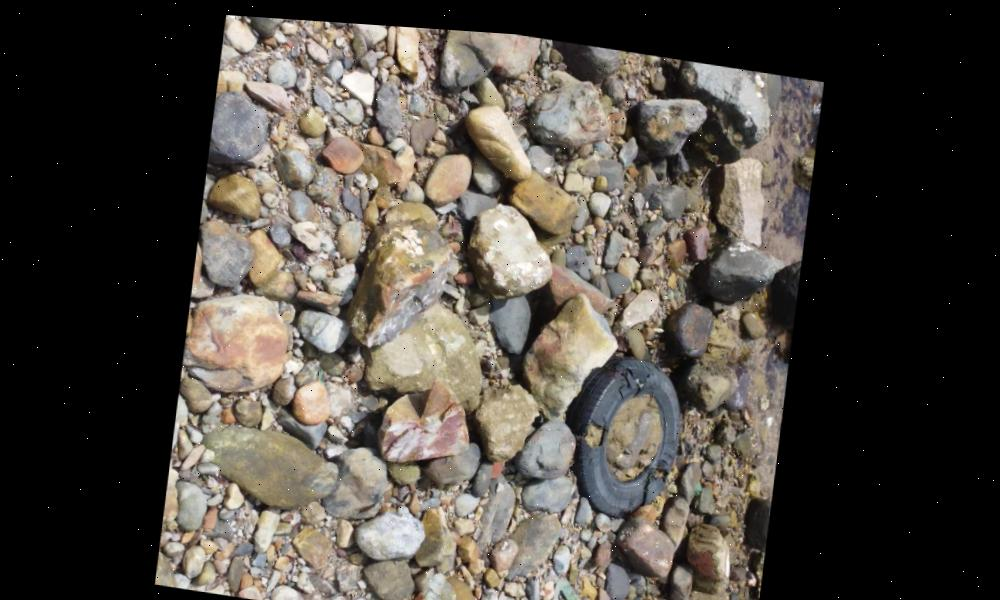tire: (559, 340, 691, 518)
